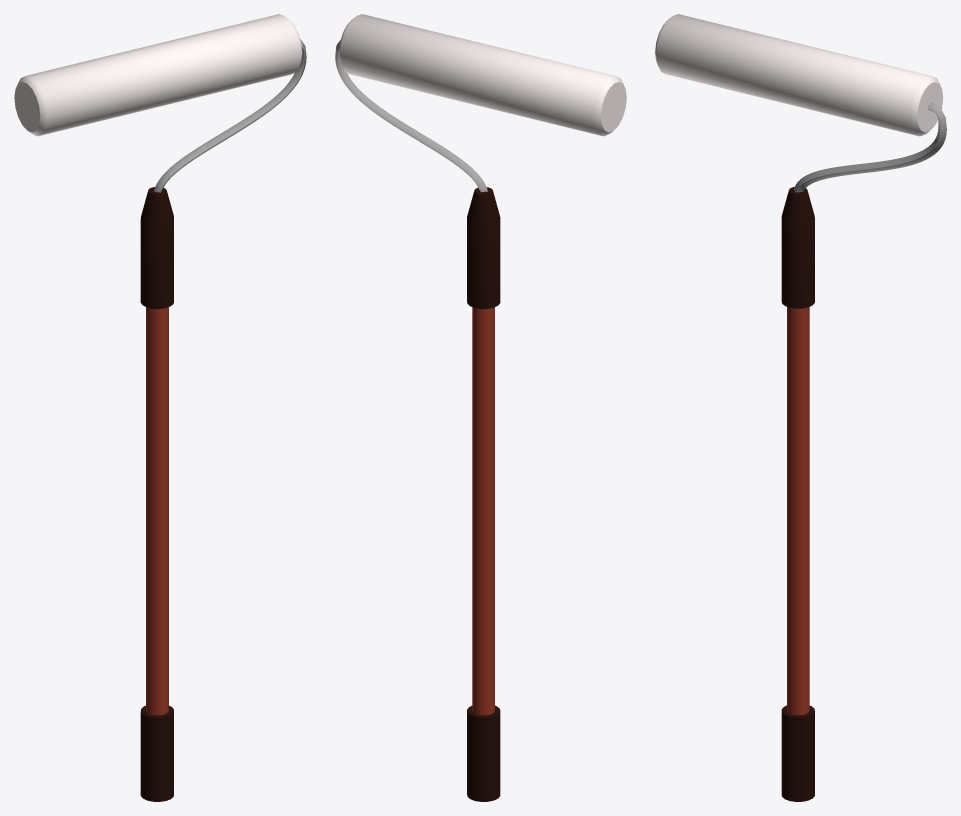
Rendered from Roller.glb.
3 renders of one model, left to right at view 1: azimuth 30°, elevation 25°; view 2: azimuth 150°, elevation 25°; view 3: azimuth 330°, elevation 25°, orthographic.
Visible parts, largest first — view 1: Roller; view 2: Roller; view 3: Roller.
Boxes of the visible parts, x1,y1,x2,y2 form: Roller: (14, 14, 306, 801); Roller: (335, 14, 626, 801); Roller: (655, 14, 946, 801).
Size of the model in its own units: 0.7725 by 1.98 by 0.1488.
Materials: 1 (1 with a texture image).
